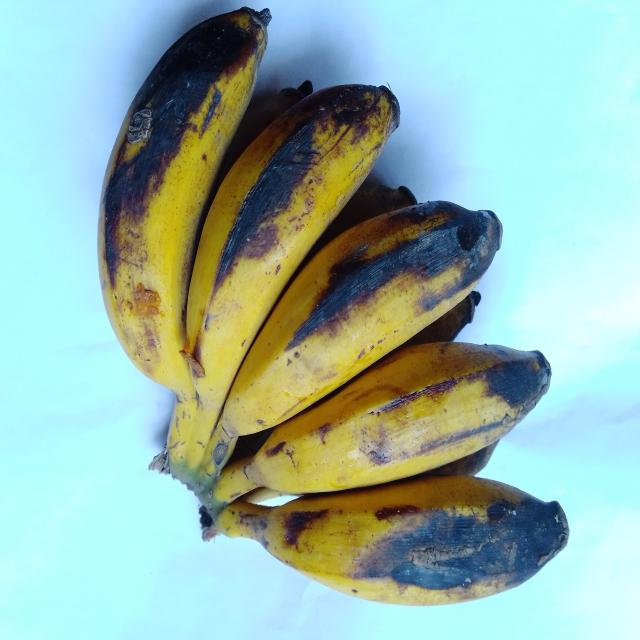banana: (168, 85, 399, 477), (99, 8, 270, 415), (220, 202, 501, 434), (213, 343, 550, 510), (204, 476, 568, 604), (214, 80, 313, 194), (298, 183, 416, 272), (301, 184, 417, 267), (406, 291, 480, 345), (417, 441, 499, 477), (425, 440, 499, 476)
